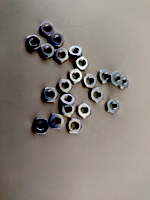nut: (67, 118, 83, 135), (33, 119, 49, 135), (54, 47, 69, 64), (26, 35, 41, 51), (76, 103, 92, 118), (40, 22, 55, 38), (50, 114, 65, 129), (40, 44, 55, 59), (42, 88, 58, 102), (106, 98, 120, 114), (91, 87, 105, 103), (61, 93, 76, 107), (58, 78, 72, 93), (51, 33, 65, 48), (70, 69, 83, 85), (75, 57, 89, 71), (110, 72, 123, 87), (62, 104, 75, 118), (84, 74, 97, 88), (69, 46, 83, 59), (98, 70, 111, 84), (120, 75, 129, 89)
